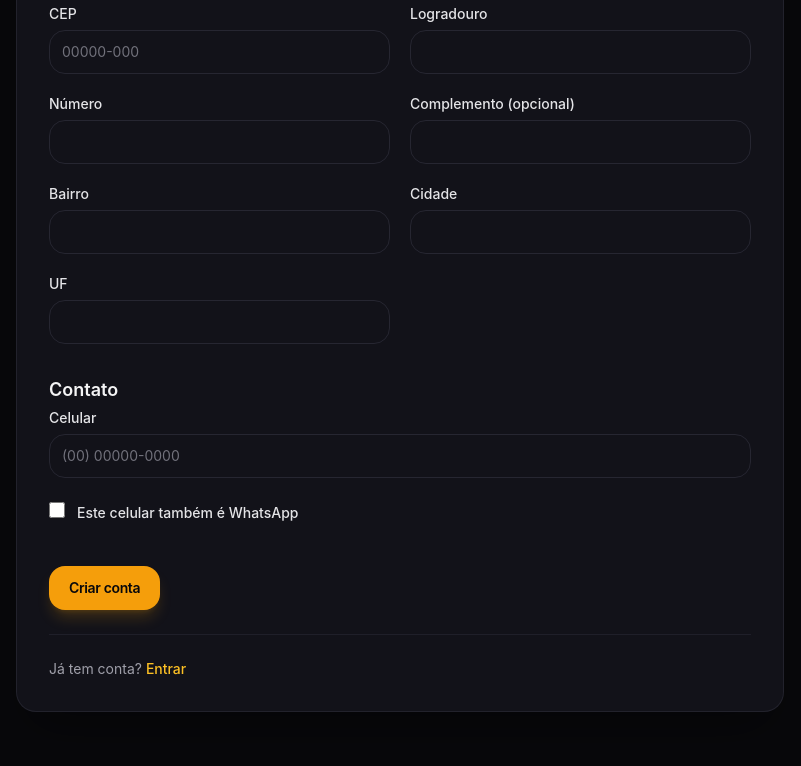
Scenario: RegistrationPage › shows validation errors without submitting an empty form
This screenshot has width=801, height=766.
(page scrolled)
Click the button "Criar conta" at (105, 588), box x1=49 y1=566 x2=160 y2=610
(page scrolled)
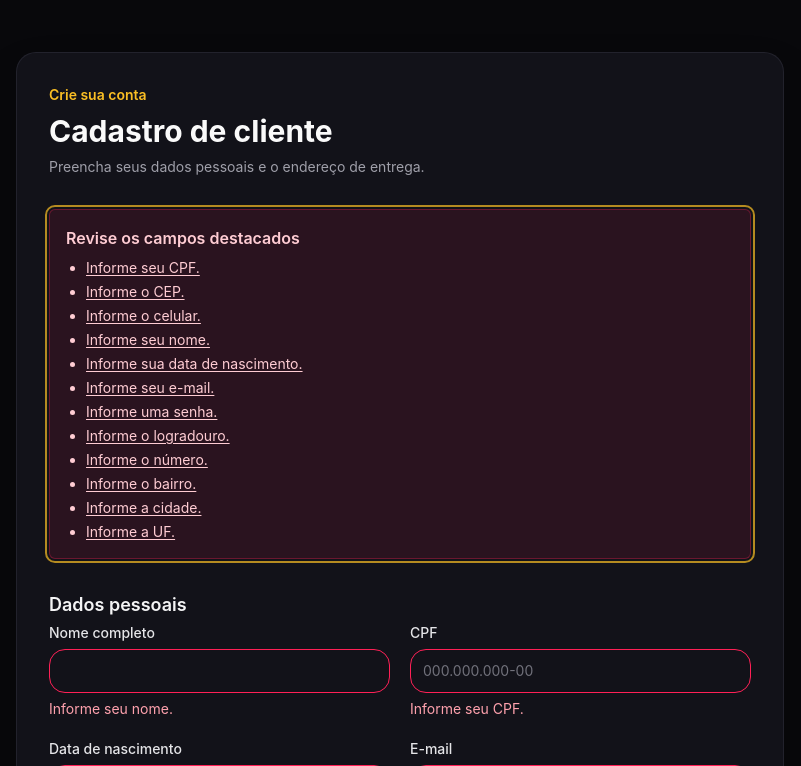
Expected: the link "Informe seu CPF." is shown, x1=86 y1=259 x2=200 y2=276
Expected: the link "Informe o logradouro." is shown, x1=86 y1=427 x2=230 y2=444
Expected: the link "Informe o celular." is shown, x1=86 y1=307 x2=201 y2=324
